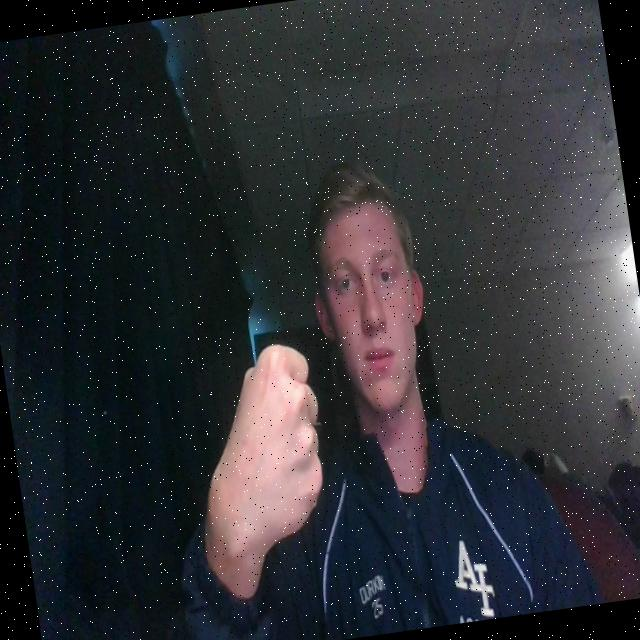rock: (189, 318, 346, 594)
